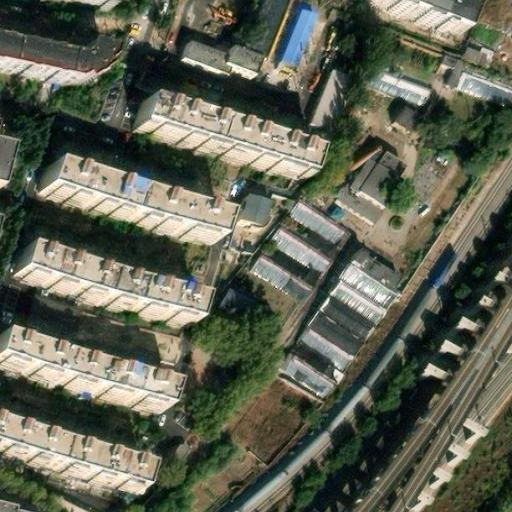building: (16, 240, 198, 320), (140, 100, 315, 180), (37, 156, 214, 234), (0, 328, 164, 404), (292, 270, 389, 375), (0, 421, 140, 488), (163, 77, 297, 140), (0, 51, 100, 93), (346, 153, 403, 215), (367, 58, 434, 106), (245, 253, 307, 302), (265, 228, 327, 275), (305, 75, 352, 136), (272, 356, 332, 402), (287, 205, 342, 246), (277, 11, 313, 71), (346, 260, 398, 300), (176, 42, 225, 80), (217, 283, 261, 323), (218, 52, 261, 90), (391, 100, 426, 135), (235, 201, 270, 233), (462, 39, 497, 67), (423, 355, 454, 381), (435, 333, 464, 358), (314, 362, 341, 387), (0, 497, 42, 512)
